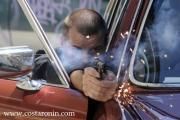gun: (93, 58, 105, 79)
